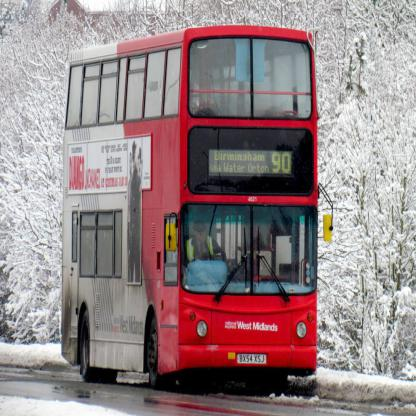Bus: (60, 22, 333, 390)
